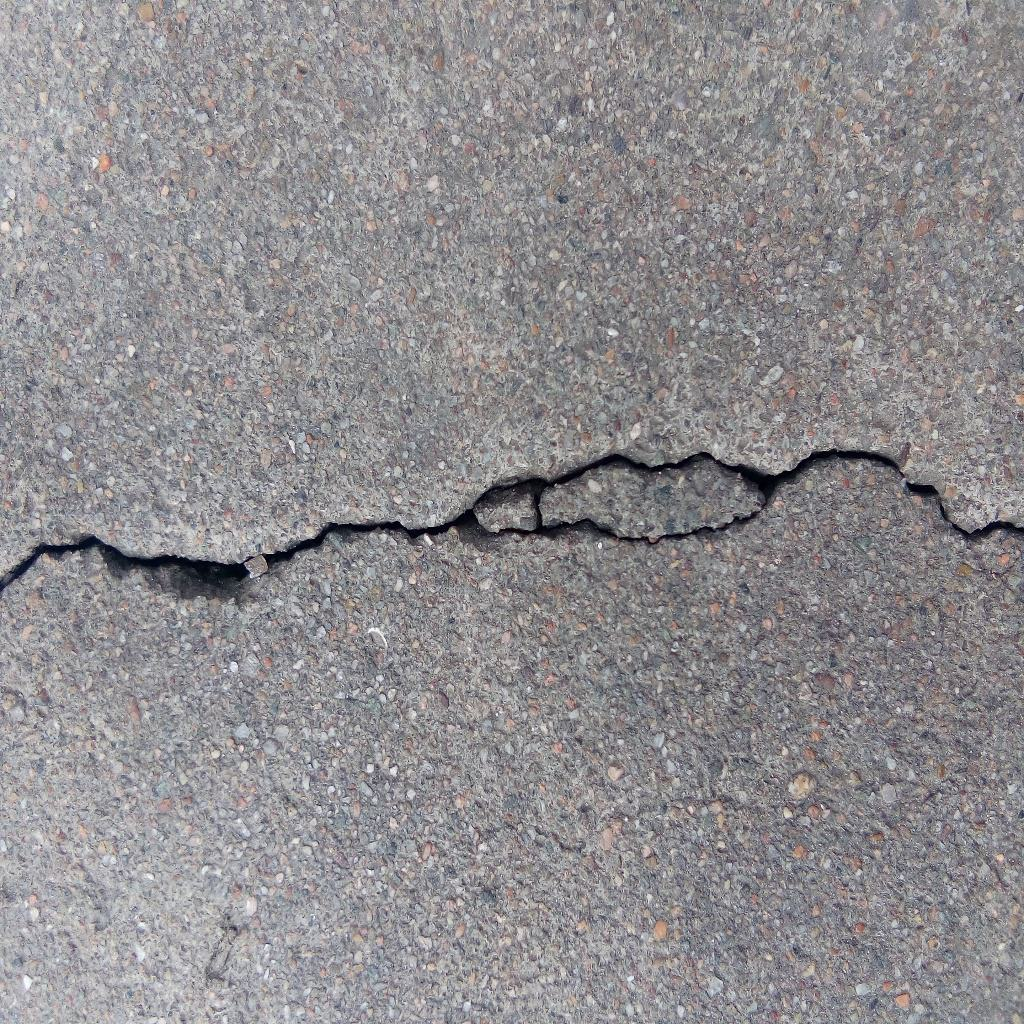Crack: (1, 448, 1024, 604)
